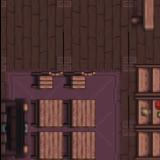Hide: (0, 95, 28, 160)
Obstacle: (127, 0, 160, 36), (62, 97, 97, 130), (29, 97, 62, 131), (128, 96, 160, 129), (29, 65, 62, 97), (62, 65, 96, 96), (128, 64, 160, 96), (62, 130, 96, 160), (128, 129, 160, 160), (29, 130, 62, 160)
